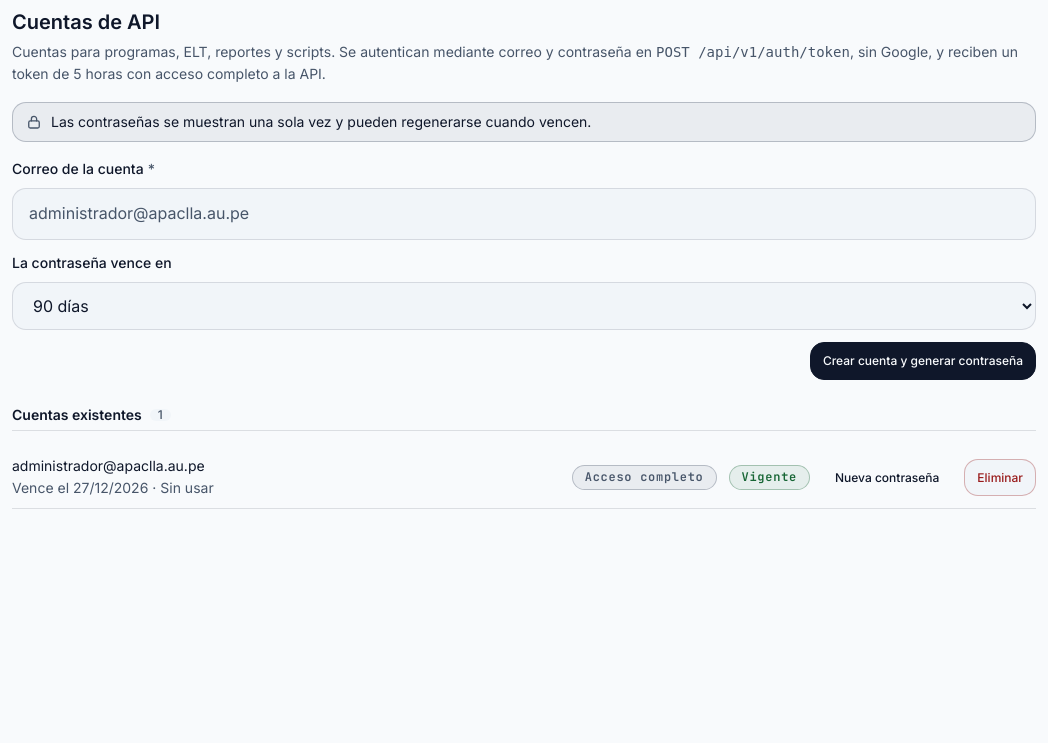
cuentas de API › lista las cuentas sin contraseña y permite regenerarla
expect the text "administrador@apaclla.au.pe" is shown: met, box 12,457 -> 205,474
expect the text "Vigente" is shown: met, box 728,465 -> 810,490
Step 1. Click the button "Nueva contraseña" → (887, 478), box 822,459 -> 952,496
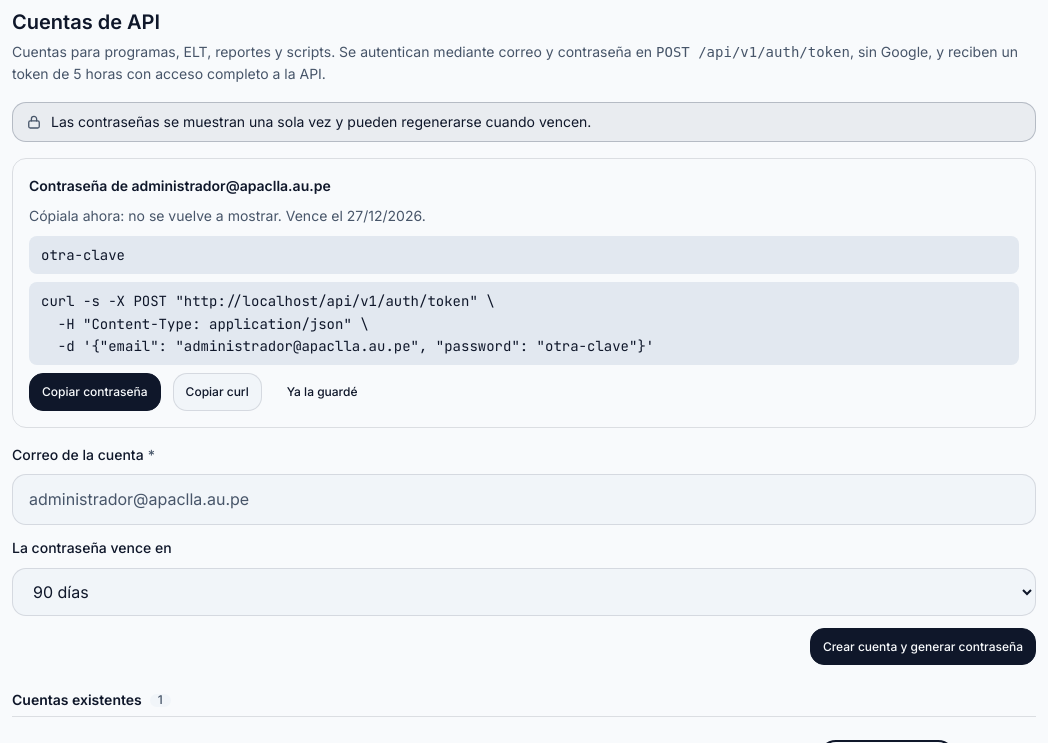
expect the text "otra-clave" is shown: met, box 29,236 -> 1019,274
